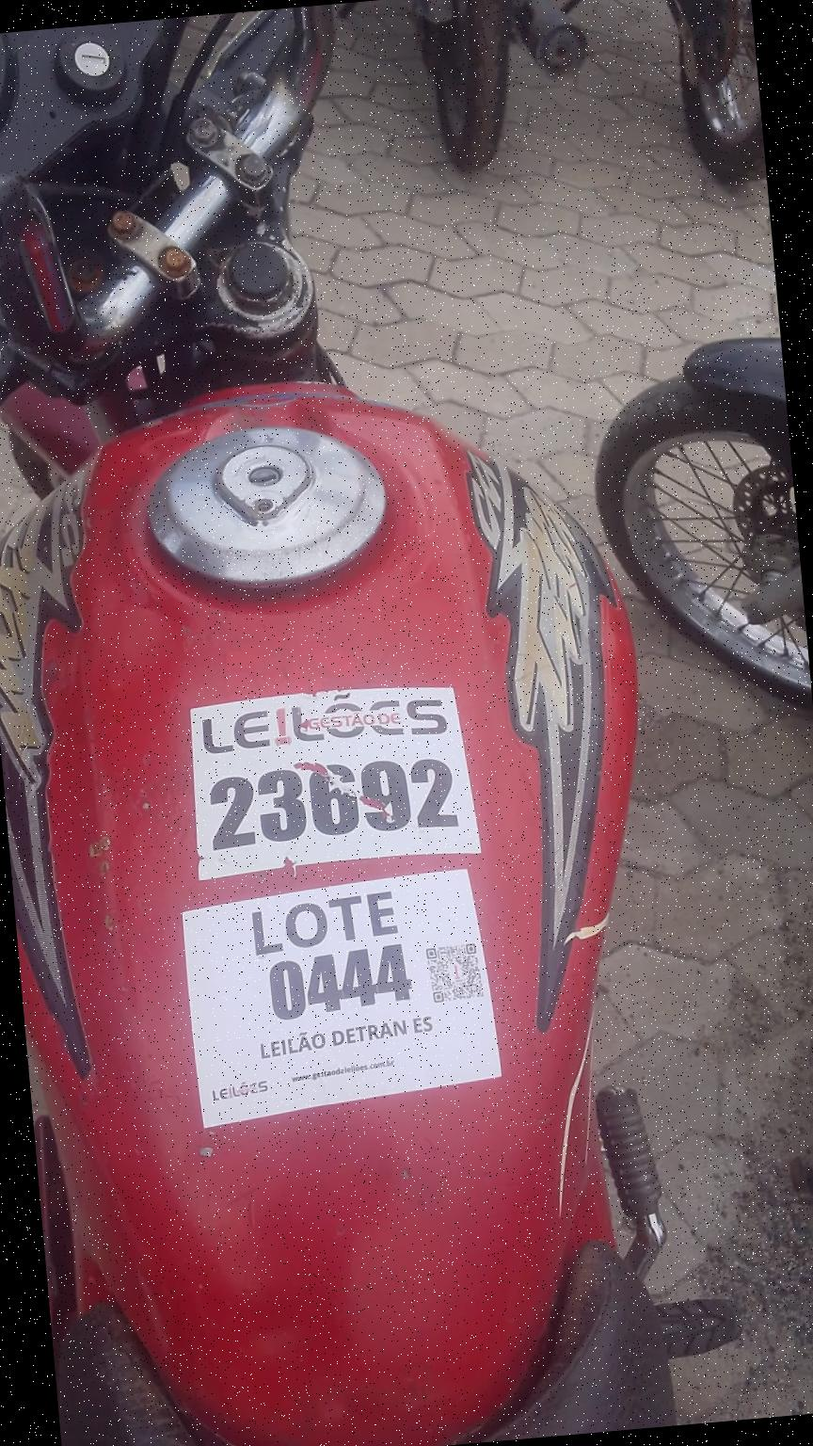Caractere: (198, 743, 465, 857)
